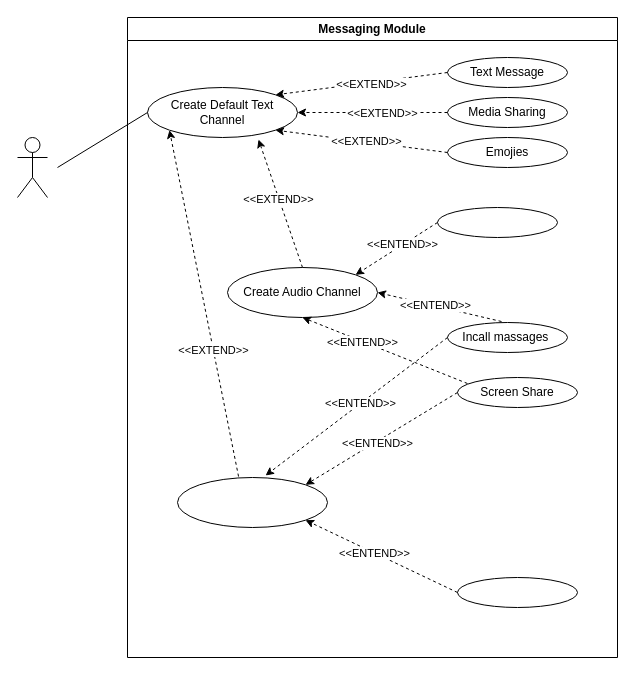
Some shapes in this 635 by 675 pixel diagram are drawn without their labels. The box of each missing label's shape, as (x1, y1, x2, y2) in pixels:
Audio Call: (436, 206, 558, 238)
Create Viedo Channel: (176, 476, 328, 528)
User: (16, 136, 48, 198)
Viedo Call: (456, 576, 578, 608)
